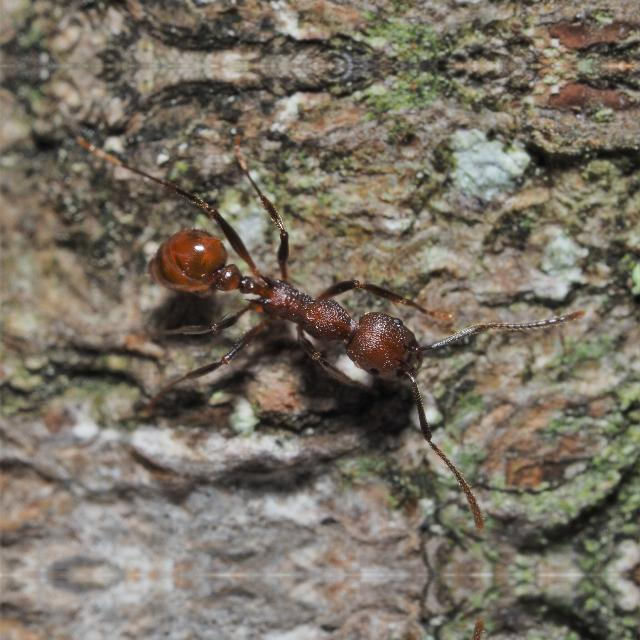Apheanogaster: (122, 193, 470, 409)
